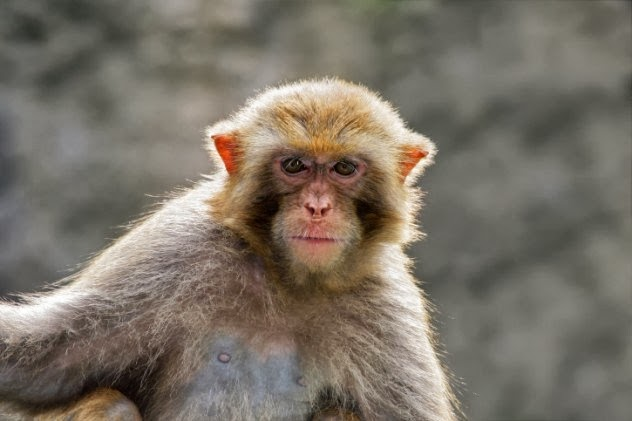monkey: (1, 71, 464, 421)
